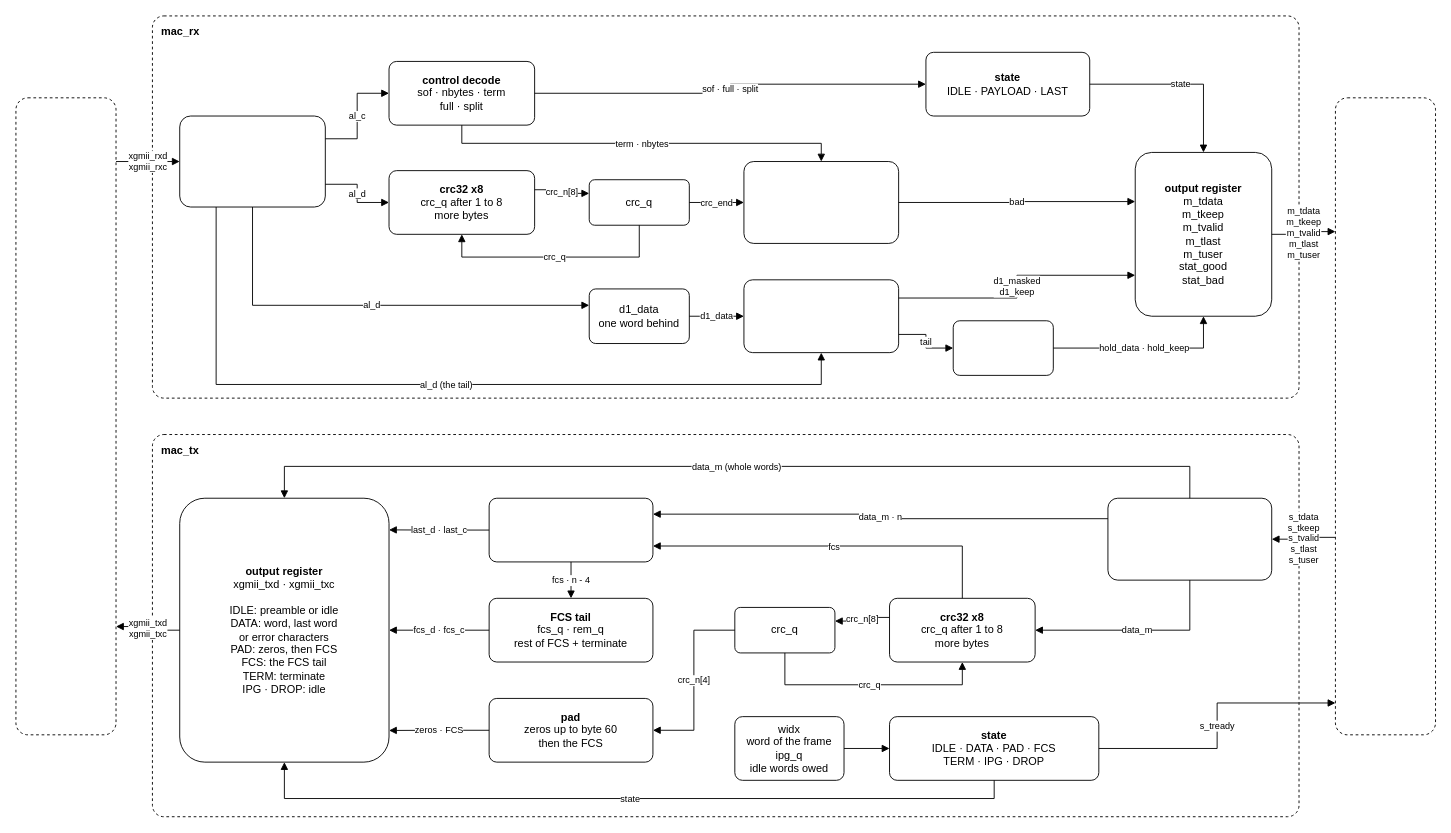
Image size: 1451x833. Some labels were removed from this diagram. Here are the shapes that lost their labels. From the top down, the box of each, then its label:
(179, 115, 325, 207): lane aligner start in lane 0 or 4 swap -> delay 4 bytes prev_d · prev_c
(743, 161, 899, 243): frame check CRC residue ended on a terminate at least 64 bytes
(743, 279, 899, 353): FCS strip d1_keep · d1_masked tail_keep · tail_masked
(952, 320, 1053, 375): hold the tail word
(15, 97, 116, 735): PCS / PMA 10GBASE-R on a GTH 64 bit XGMII 156.25 MHz
(1335, 97, 1436, 735): eth header parse and build
(488, 497, 653, 562): last word data + FCS + terminate as much as fits
(1107, 497, 1272, 580): input n = bytes in tkeep data_m = bytes past tkeep zeroed
